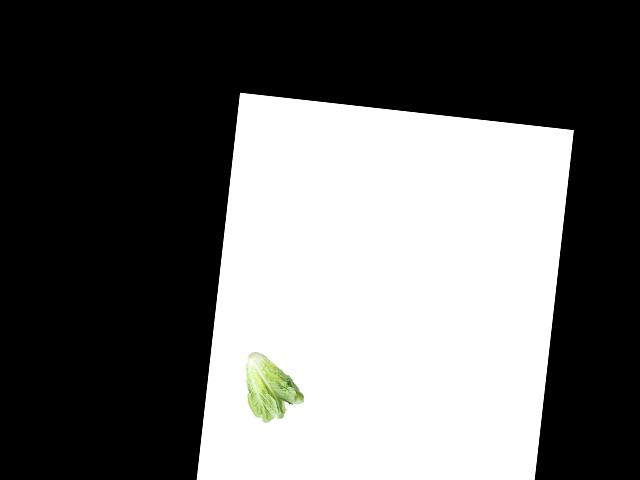lettuce: (236, 353, 311, 426)
